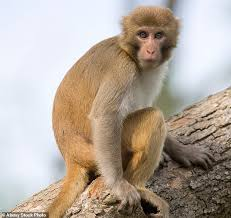monkey: (31, 6, 218, 211)
